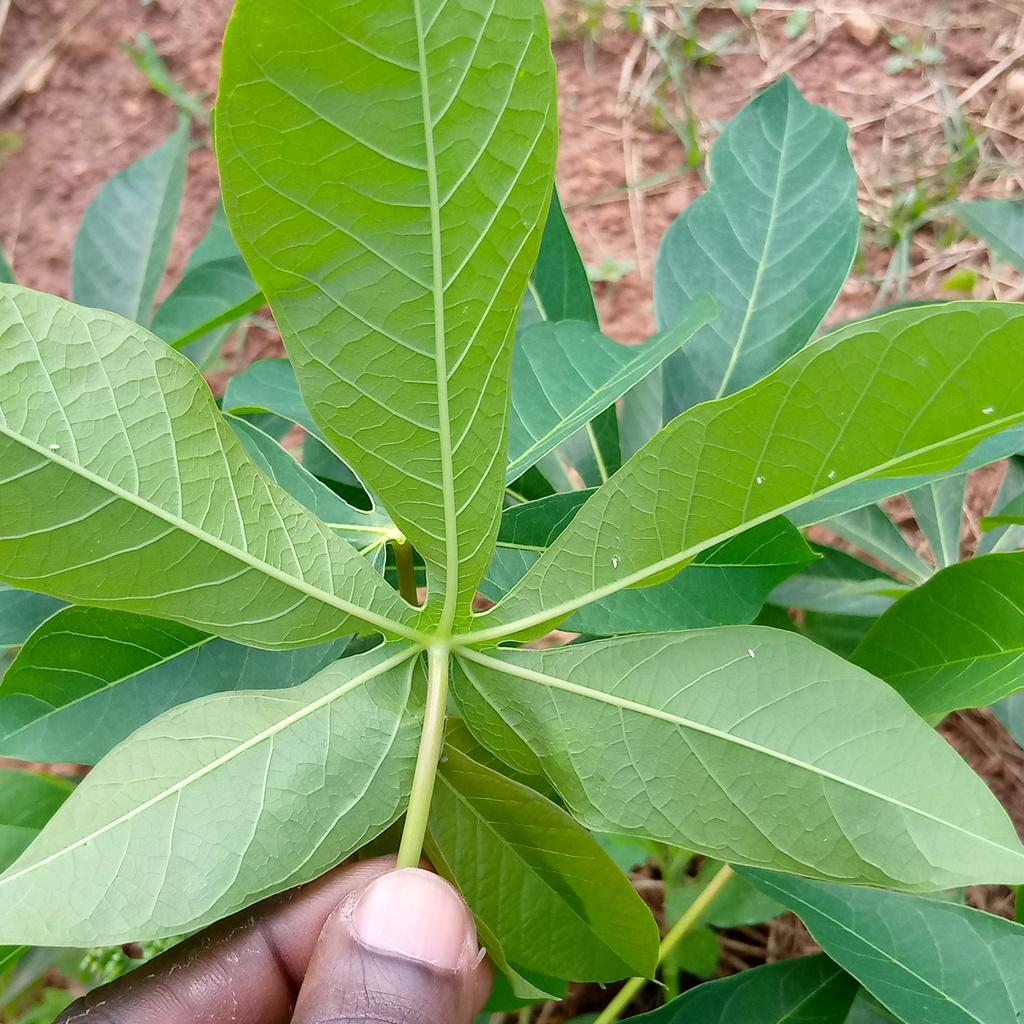adult: (48, 443, 61, 451), (983, 407, 994, 414), (827, 471, 836, 479), (756, 476, 764, 484), (748, 649, 755, 658), (612, 558, 617, 569)
